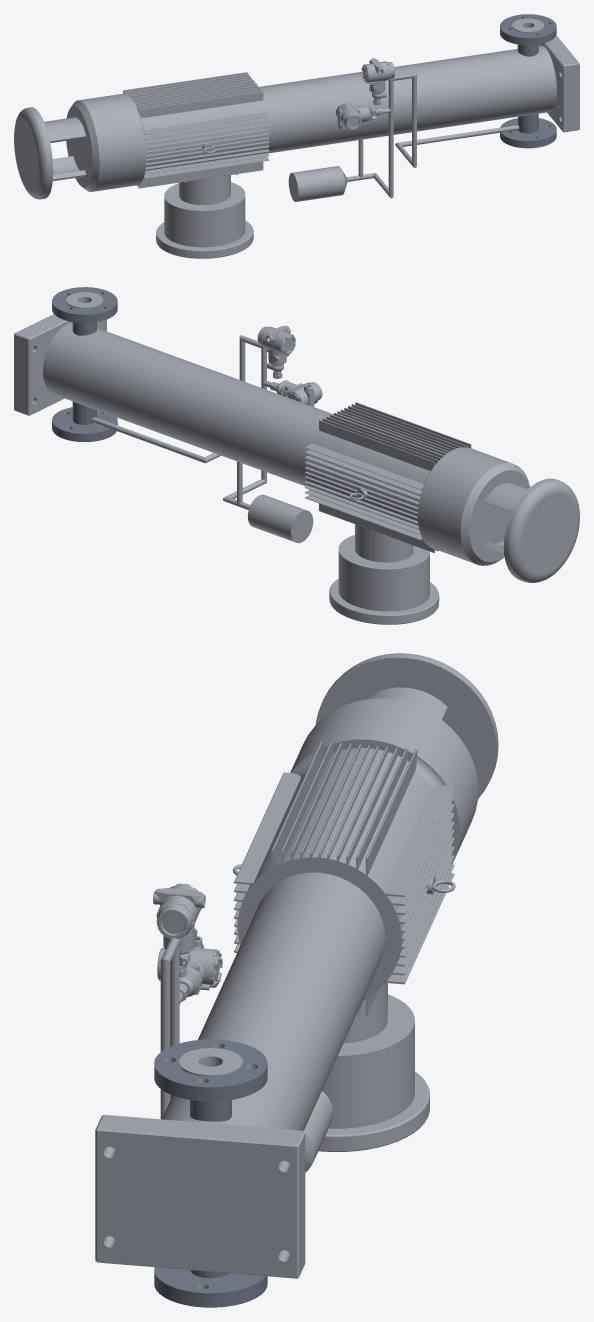
File: 磁力泵.obj
3 renders of one model, top to bottom at view 1: azimuth 30°, elevation 25°; view 2: azimuth 150°, elevation 25°; view 3: azimuth 270°, elevation 25°, orthographic. The views are drawn at different scales.
Parts seen in each view (by area): view 1: BRep_1, BRep_9, ________________0_6_______________1_2__, BRep_3; view 2: BRep_1, BRep_9, BRep_3, ________________0_6_______________1_2__; view 3: BRep_9, BRep_1, ________________0_6_______________1_2__, BRep_3.
Part boxes in pixels (x1=…): BRep_1: x1=14, y1=72, x2=269, y2=258; BRep_9: x1=258, y1=14, x2=579, y2=198; ________________0_6_______________1_2__: x1=335, y1=58, x2=394, y2=129; BRep_3: x1=288, y1=166, x2=347, y2=201; BRep_1: x1=304, y1=402, x2=579, y2=624; BRep_9: x1=14, y1=287, x2=333, y2=509; BRep_3: x1=247, y1=494, x2=313, y2=543; ________________0_6_______________1_2__: x1=257, y1=325, x2=322, y2=406; BRep_9: x1=95, y1=872, x2=385, y2=1307; BRep_1: x1=232, y1=653, x2=498, y2=1151; ________________0_6_______________1_2__: x1=153, y1=883, x2=222, y2=1001; BRep_3: x1=304, y1=1091, x2=333, y2=1172.
Size of the model in its own units: 1163 by 389 by 408.
